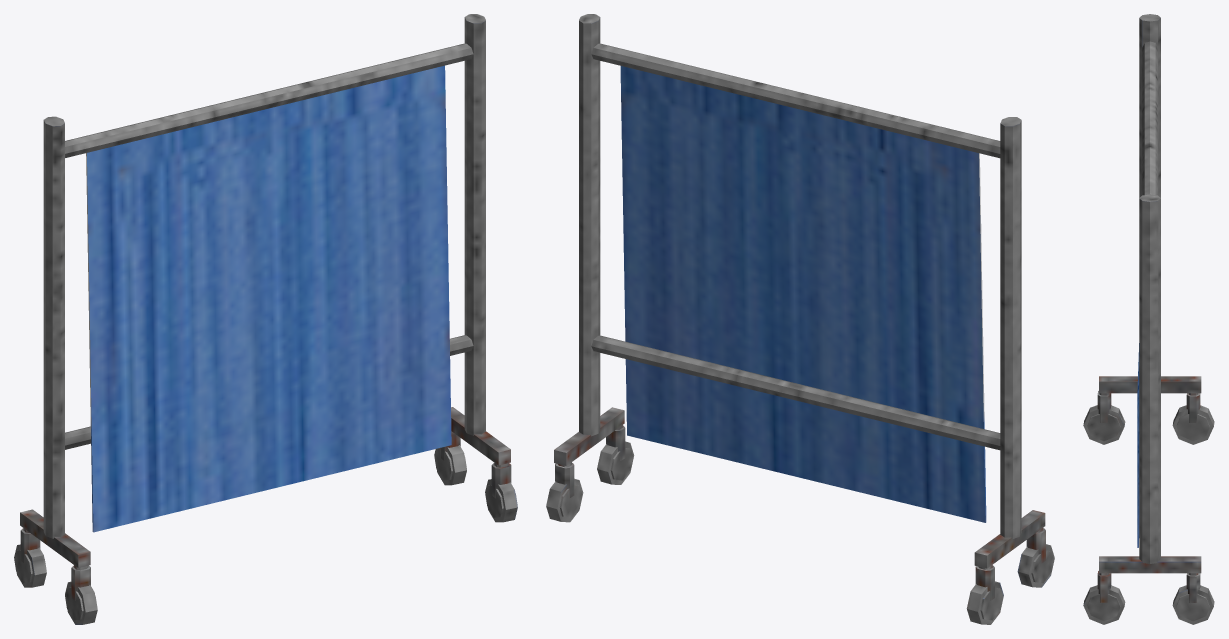
Rendered from screen1.glb.
3 views of the same model, side by side, from view 1: azimuth 30°, elevation 25°; view 2: azimuth 150°, elevation 25°; view 3: azimuth 270°, elevation 25° (orthographic). The views are drawn at different scales.
Visible parts, largest first — view 1: Curtain; view 2: Curtain; view 3: Curtain.
Boxes of the visible parts, left/top/right/bottom form: Curtain: left=14, top=14, right=517, bottom=624; Curtain: left=546, top=14, right=1054, bottom=624; Curtain: left=1083, top=14, right=1214, bottom=624.
Bounding box in the file's own units: 2.74 × 2.88 × 0.8077.
1 material, 1 textured.
